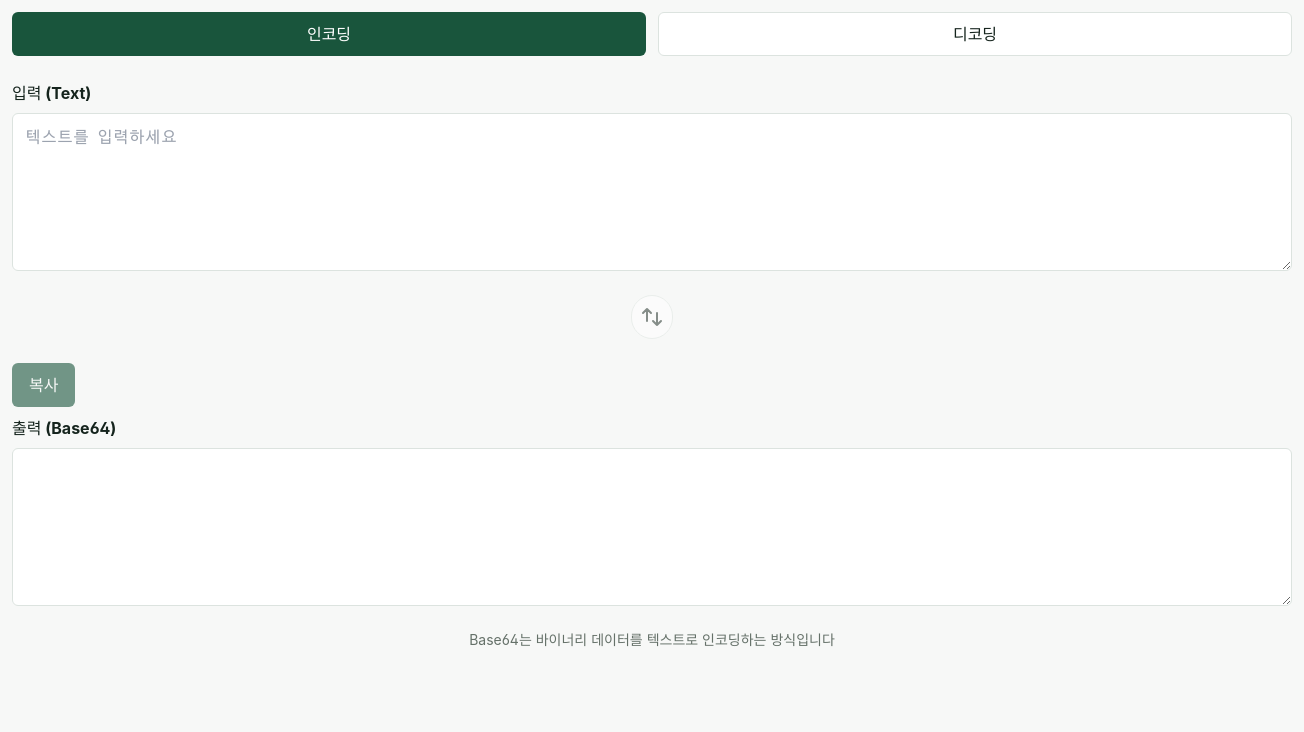
Test: Base64Tool › shows error for invalid Base64 in decode mode
Note: Switch to decode mode
Click the button "디코딩": (975, 34) [658,12,1292,56]
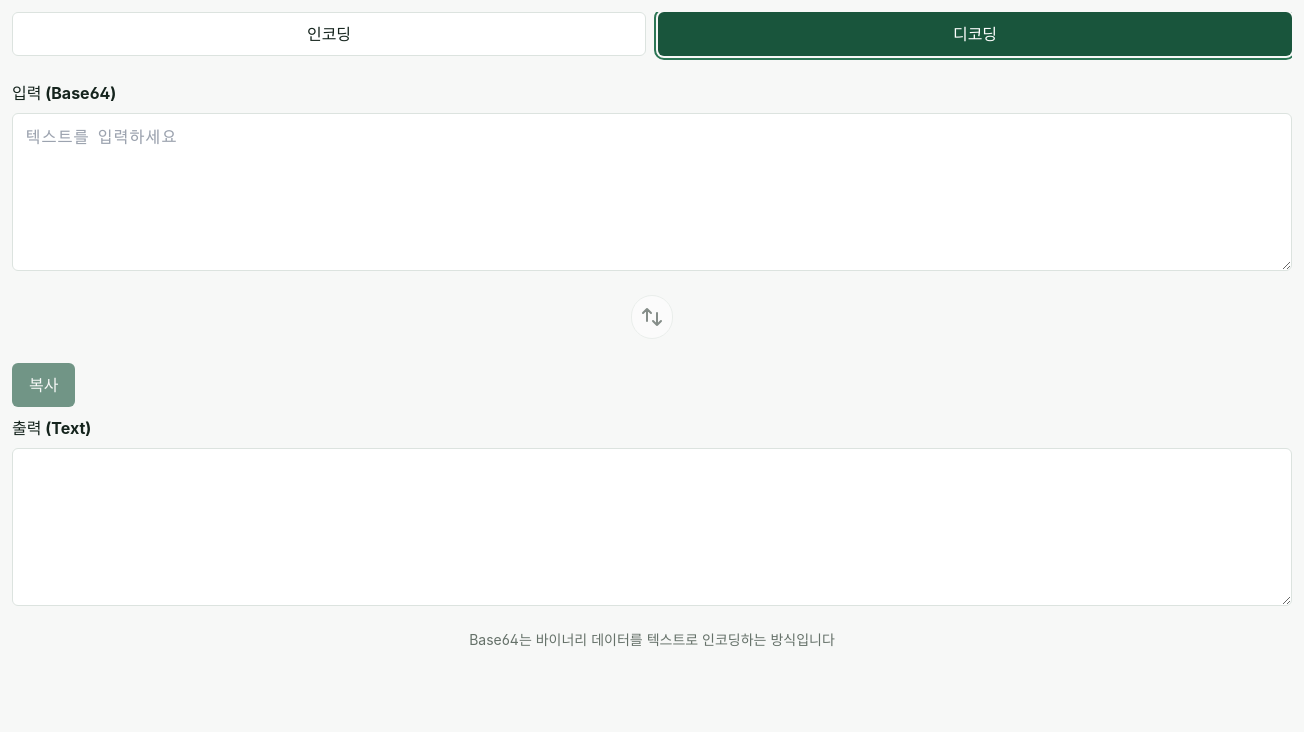
In the text box with placeholder "텍스트를 입력하세요": (652, 192) [12,113,1292,271], type "invalid!!!"
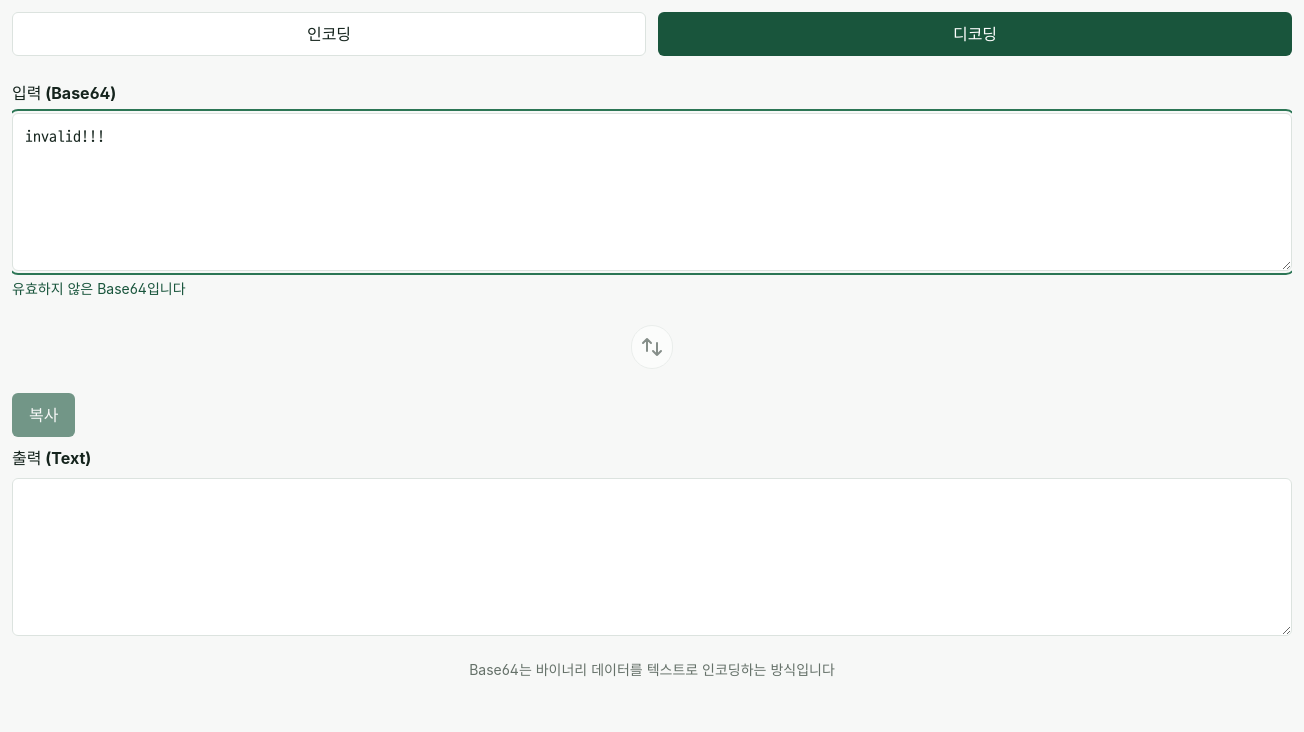
Expected: the text "유효하지 않은 Base64입니다" is shown, [12,280,186,297]
